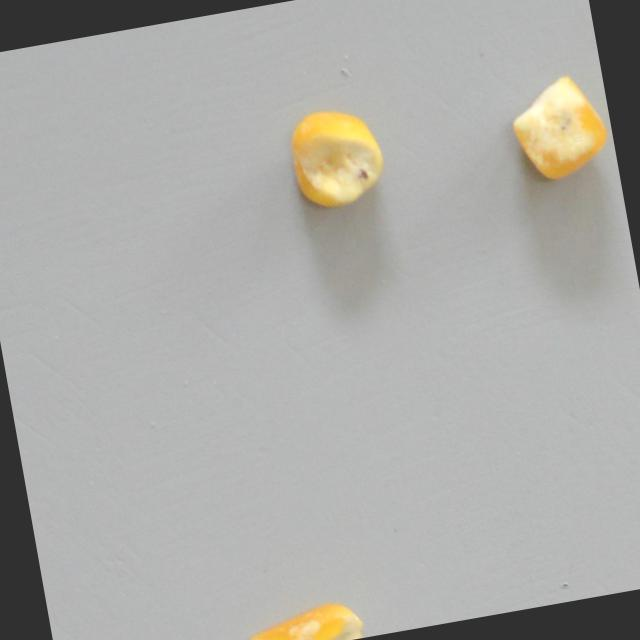dañado: (274, 94, 404, 224), (501, 69, 615, 188)
punto_negro: (235, 596, 371, 640)
